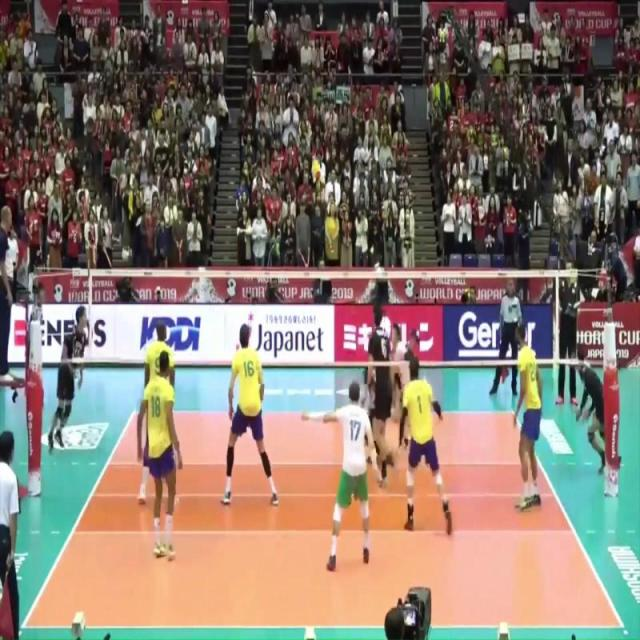volleyball: (306, 154, 325, 186)
